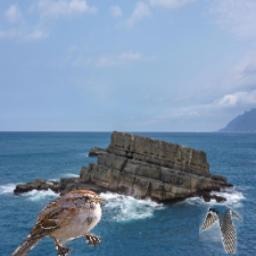Sparrow: (7, 187, 106, 256)
Swallow: (198, 205, 242, 255)
